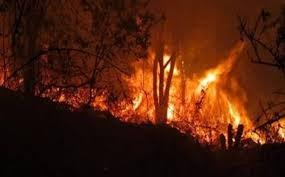fire: (123, 43, 270, 149)
